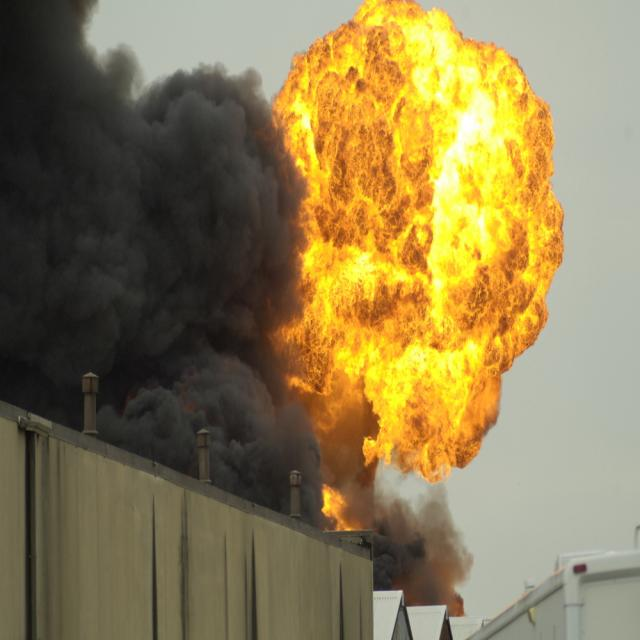fire: (272, 9, 563, 575)
